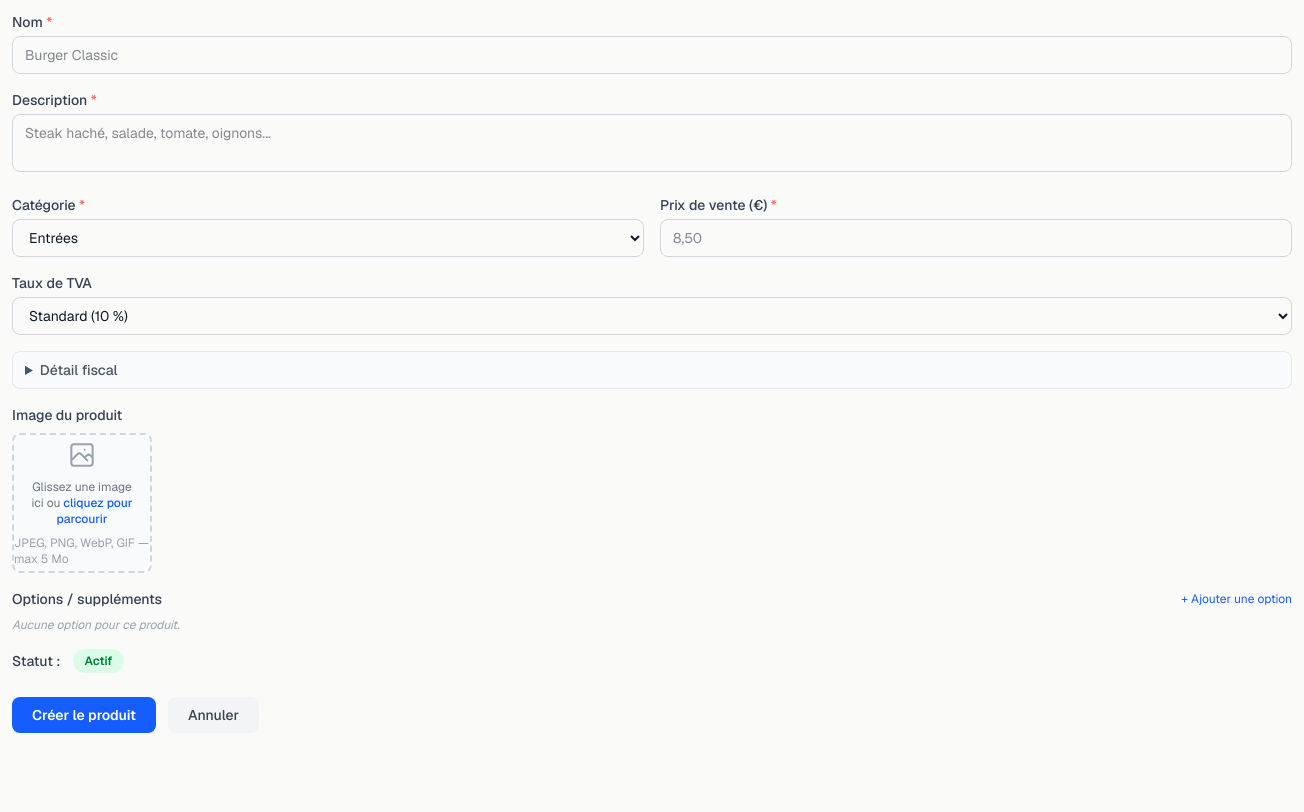
ProduitForm › ajout d'option dynamique → nouvelle ligne de champs visible
Expected: the field with placeholder "Ex : Fromage supplémentaire" is not shown
Click the button "+ Ajouter une option".
click(1237, 599)  # box [1181,591,1292,607]
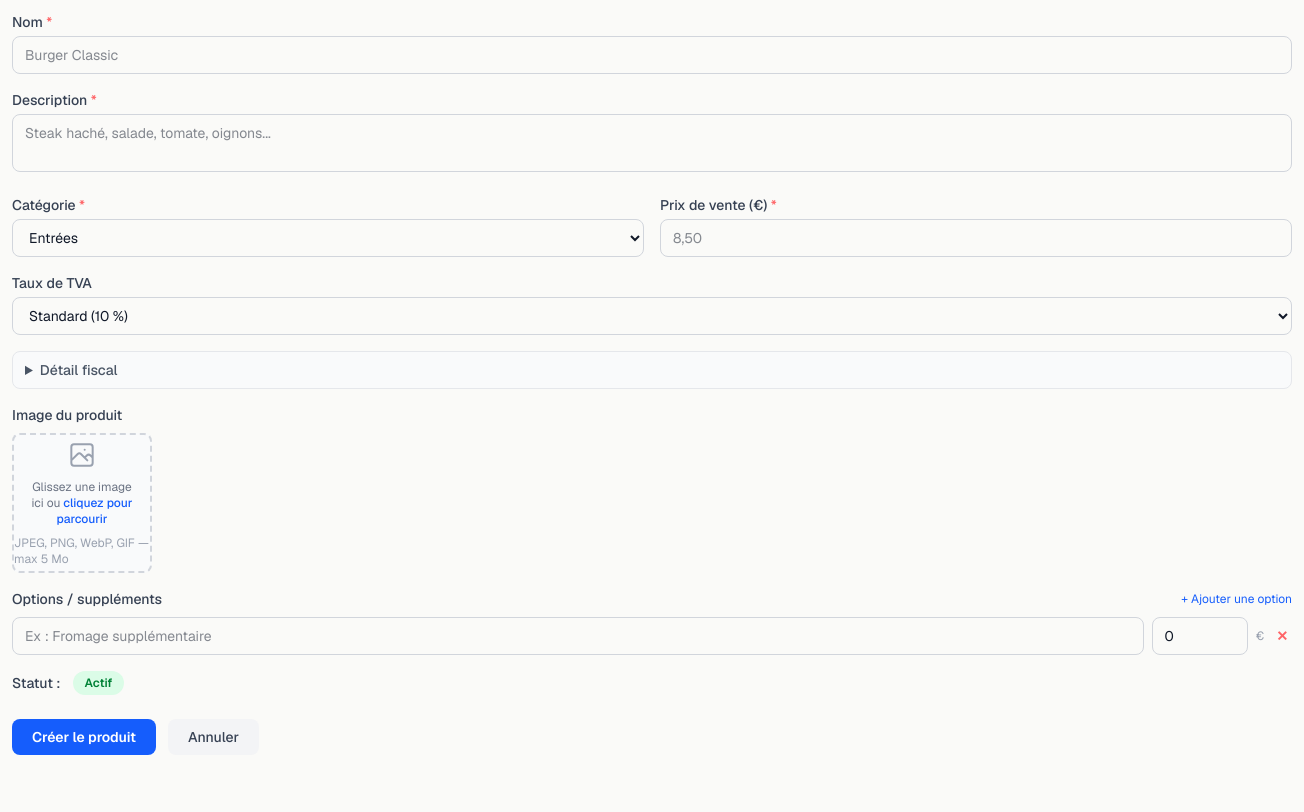
Expected: the field with placeholder "Ex : Fromage supplémentaire" is shown, [12,617,1144,655]
